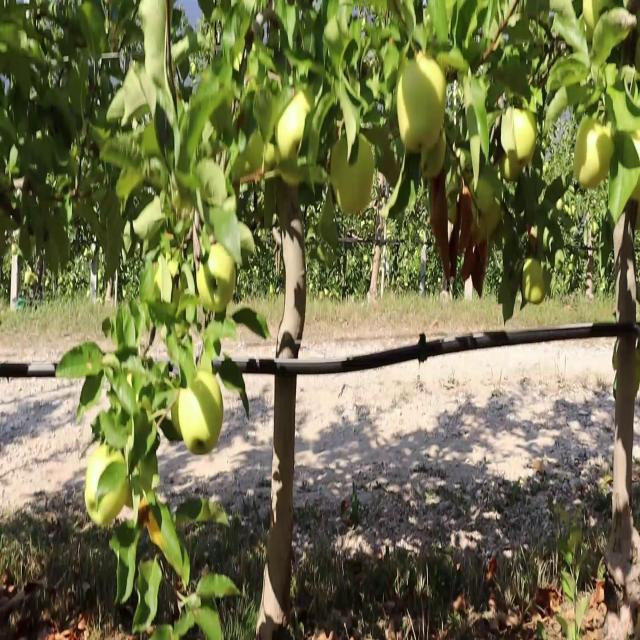apple: (400, 49, 448, 156), (180, 369, 224, 455), (332, 135, 376, 220), (396, 71, 436, 156), (88, 447, 131, 526), (576, 120, 616, 192), (200, 241, 237, 315), (276, 92, 313, 165), (88, 447, 120, 528), (504, 106, 537, 165), (400, 85, 422, 156), (420, 135, 448, 183), (140, 504, 167, 553), (428, 184, 450, 242), (456, 191, 475, 254), (480, 191, 503, 238), (524, 263, 548, 306), (500, 149, 524, 187), (280, 156, 307, 188), (380, 149, 401, 188), (148, 511, 167, 553), (584, 7, 601, 46), (264, 142, 280, 176)
